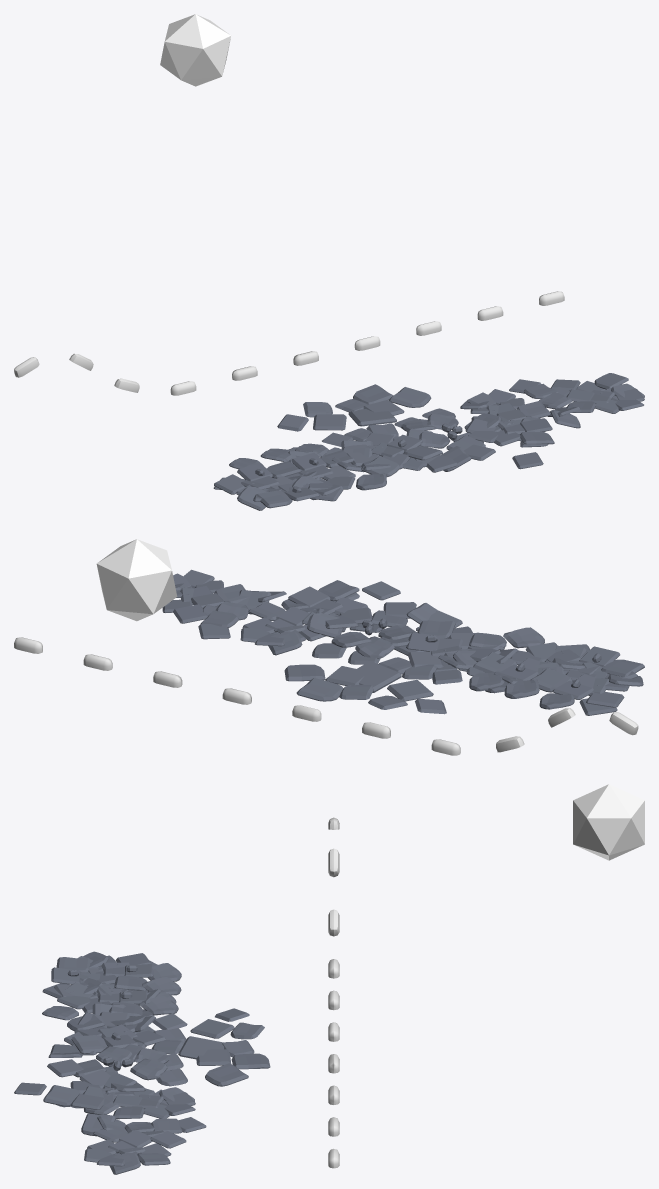
Rendered from road.gltf.
The picture shows the model from 3 angles, top to bottom: view 1: azimuth 30°, elevation 25°; view 2: azimuth 150°, elevation 25°; view 3: azimuth 270°, elevation 25°; orthographic projection. The views are drawn at different scales.
Visible parts, largest first — view 1: StoneTile1, StoneTiles3, StoneTiles2, Leaf3_convex_colider, LaneMarking; view 2: StoneTile1, StoneTiles3, StoneTiles2, Leaf3_convex_colider, LaneMarking, LaneMarking.002, LaneMarking.001; view 3: StoneTile1, StoneTiles3, StoneTiles2, Leaf3_convex_colider, LaneMarking.
Part boxes in pixels (x1,y1,x2,y2): StoneTile1: [213, 413, 554, 510]; StoneTiles3: [320, 373, 644, 469]; StoneTiles2: [277, 384, 455, 446]; Leaf3_convex_colider: [160, 14, 230, 86]; LaneMarking: [170, 291, 564, 395]; StoneTile1: [288, 580, 644, 715]; StoneTiles3: [162, 569, 485, 676]; StoneTiles2: [284, 643, 462, 714]; Leaf3_convex_colider: [96, 539, 177, 621]; LaneMarking: [14, 637, 460, 755]; LaneMarking.002: [609, 712, 638, 735]; LaneMarking.001: [496, 736, 524, 752]; StoneTile1: [42, 951, 181, 1109]; StoneTiles3: [14, 1009, 206, 1174]; StoneTiles2: [151, 1008, 270, 1086]; Leaf3_convex_colider: [573, 784, 644, 860]; LaneMarking: [328, 959, 339, 1168].
Size of what is drawn, in the model's own units: 3.78 by 1.75 by 3.56.
